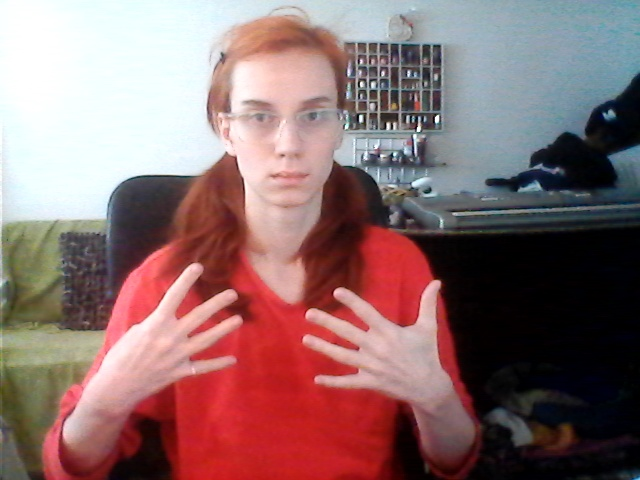devat: (104, 259, 453, 408)
